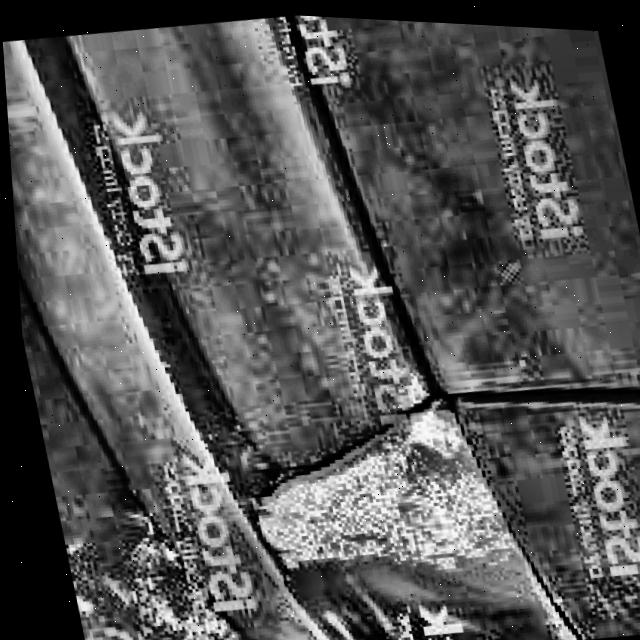bumper_scratch: (226, 359, 519, 597), (57, 499, 241, 640)
